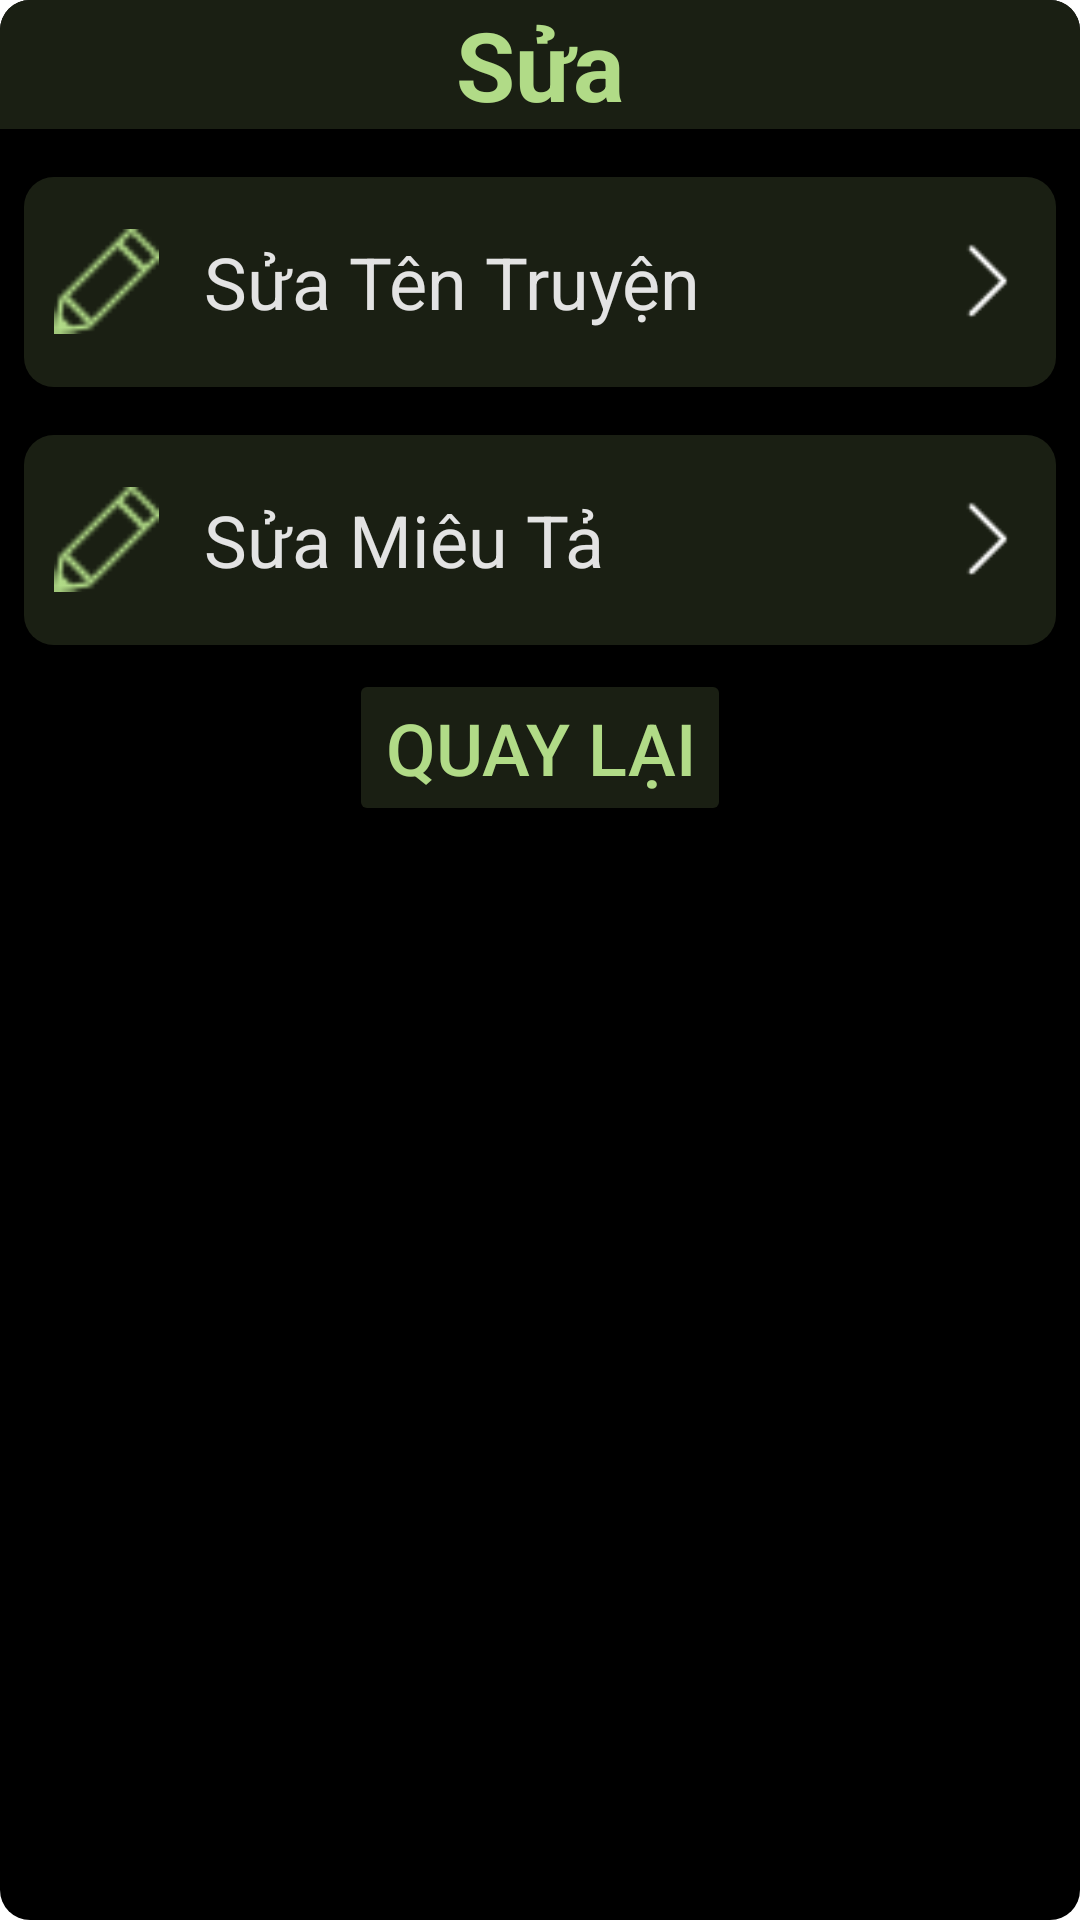

Named icons in this screenshot (1080px×1920px) and their bounding boxes, [x1,y1,x2,y2]:
arrow: [967,244,1008,317], [967,502,1008,575]
pencil: [54,229,159,334], [54,487,159,592]
